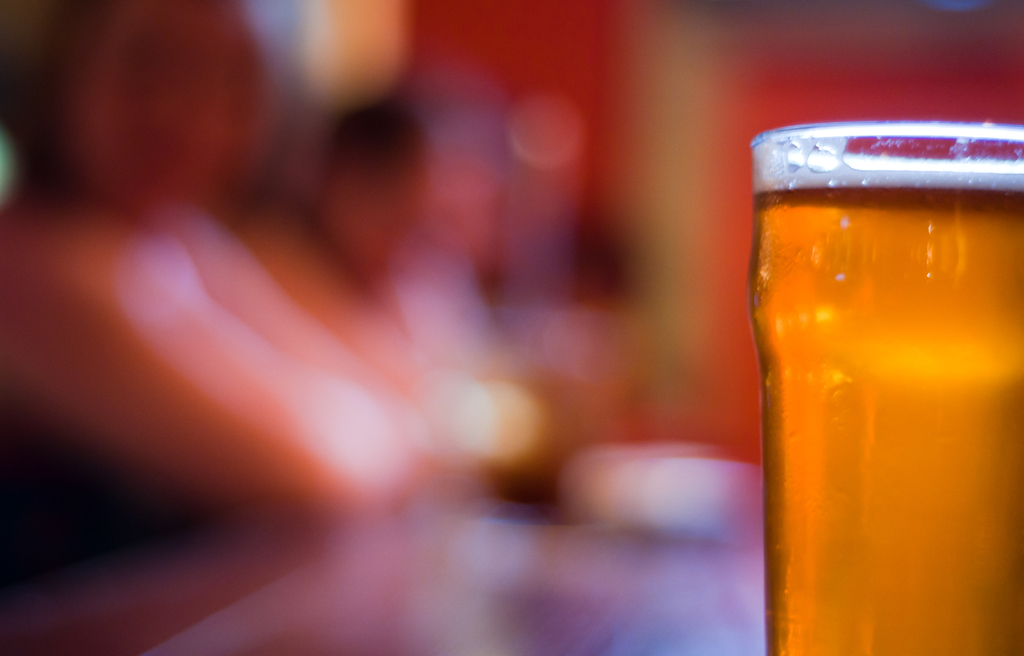Beer: (747, 112, 1017, 655)
